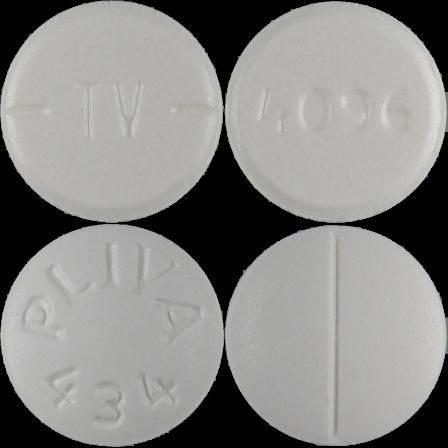68788-9846: (0, 0, 224, 224)
